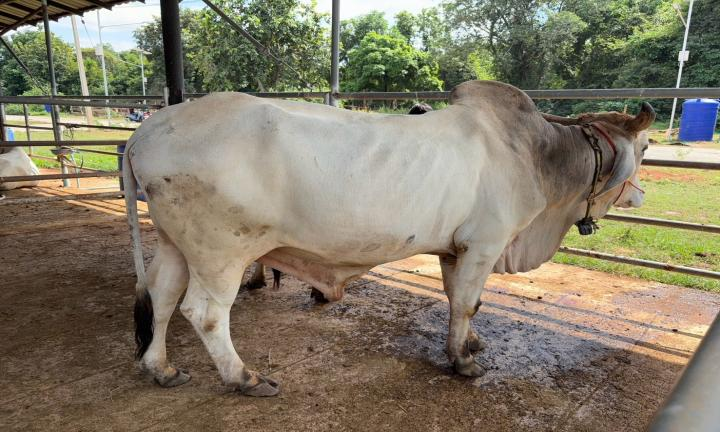Brahman: (124, 80, 654, 396)
